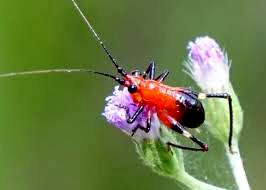Helopeltis-insect: (116, 65, 210, 136)
